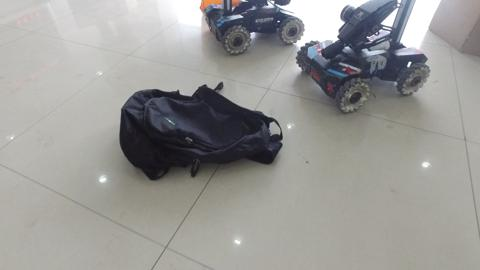bag: (125, 87, 279, 173)
chariot: (298, 1, 429, 111), (205, 1, 304, 52)
